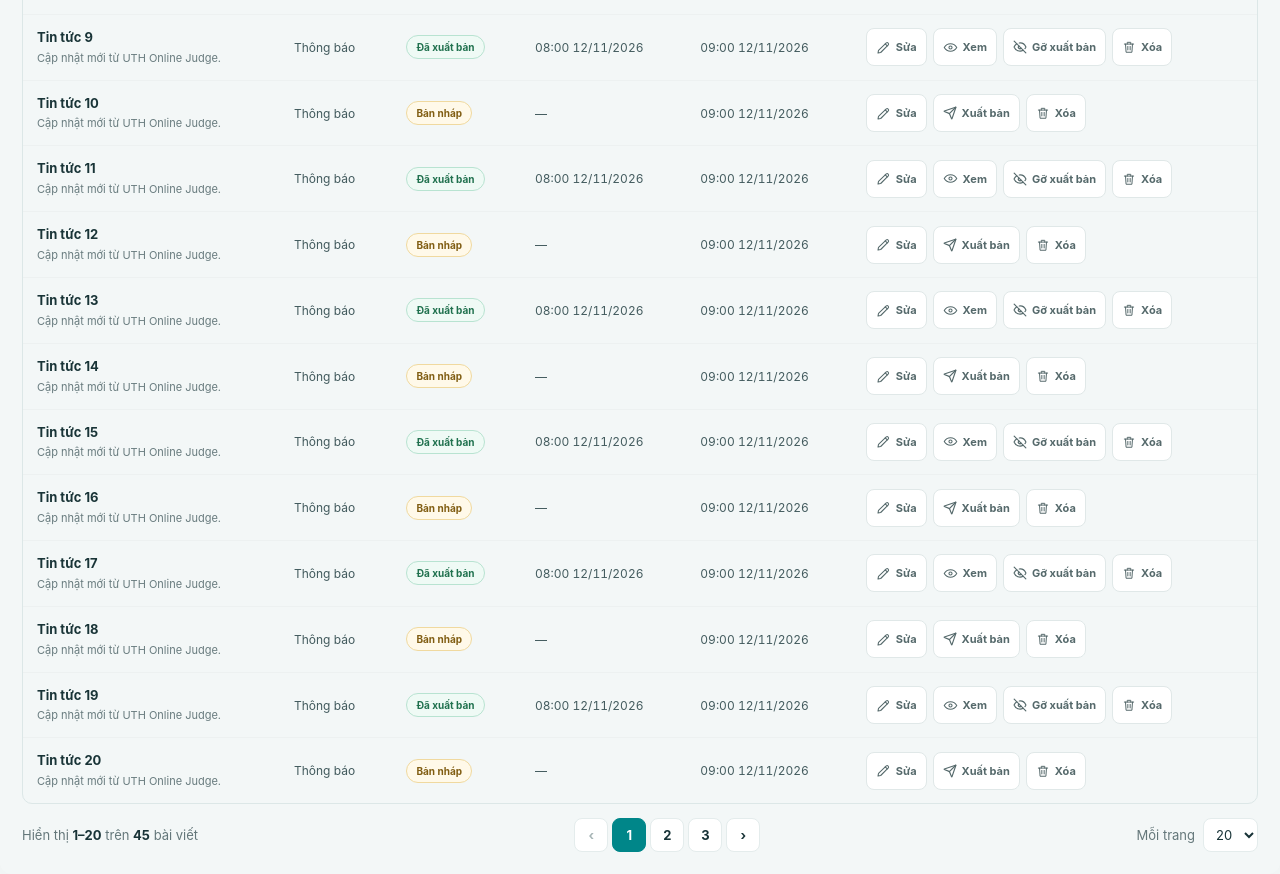
AdminNewsPage › keeps both pagers synchronized and uses the existing page-size options
(page scrolled)
Expected: the button named "Trang trước" is disabled, [574,818,608,852]
Click the button named "Trang sau" at (743, 835), box [726,818,760,852]
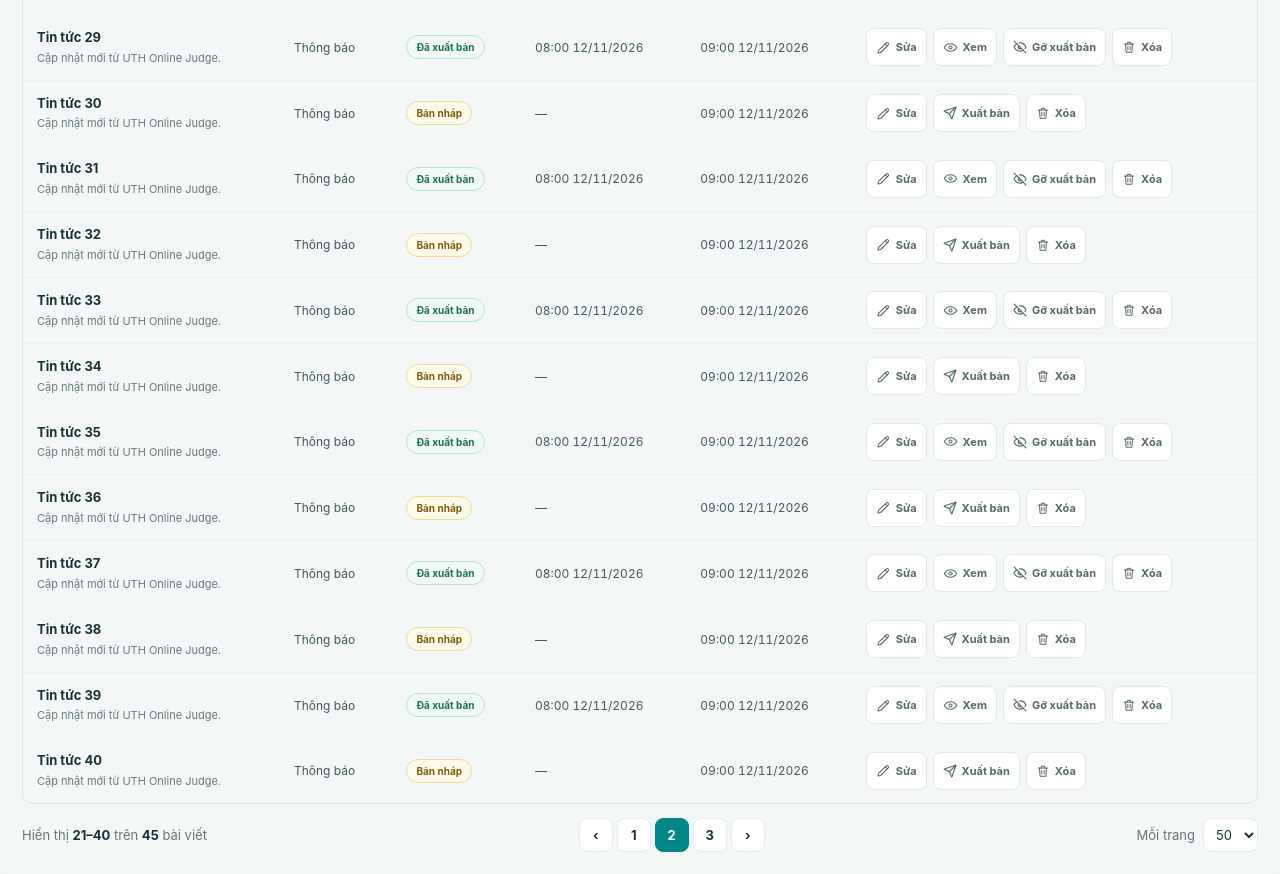
Expected: the button "2" is shown, [655,818,689,852]
Now the element showing "Hiển thị 21–40 trên 45 bài viết" is shown, box [22,827,207,843]
Select "50" in the dropdown labelled "Mỗi trang" at (1230, 835), box [1203,818,1258,852]
Select "50" in the dropdown labelled "Mỗi trang" at (1230, 835), box [1203,818,1258,852]
(page scrolled)
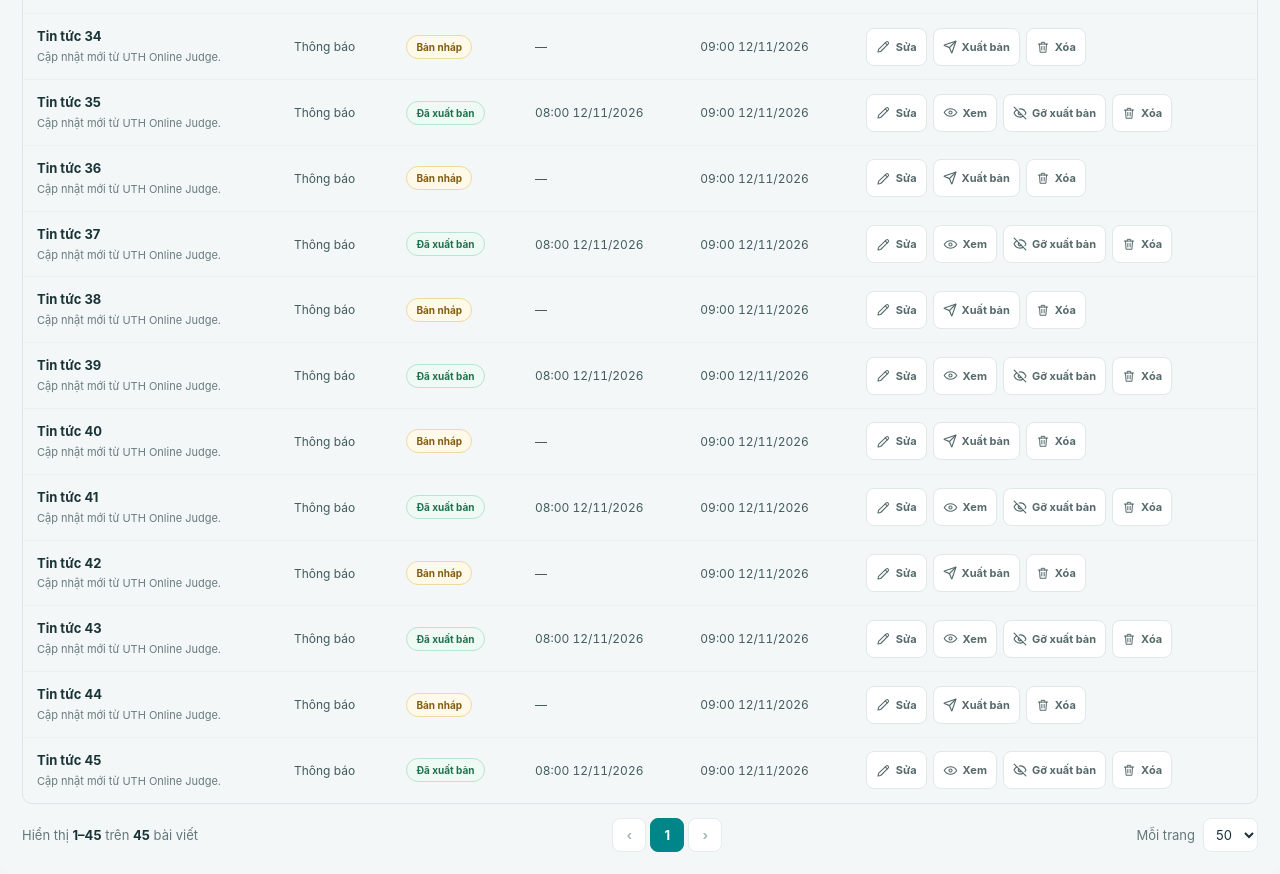
Expected: the button "1" is shown, [650,818,684,852]
Now the element showing "Hiển thị 1–45 trên 45 bài viết" is shown, box [22,827,198,843]
